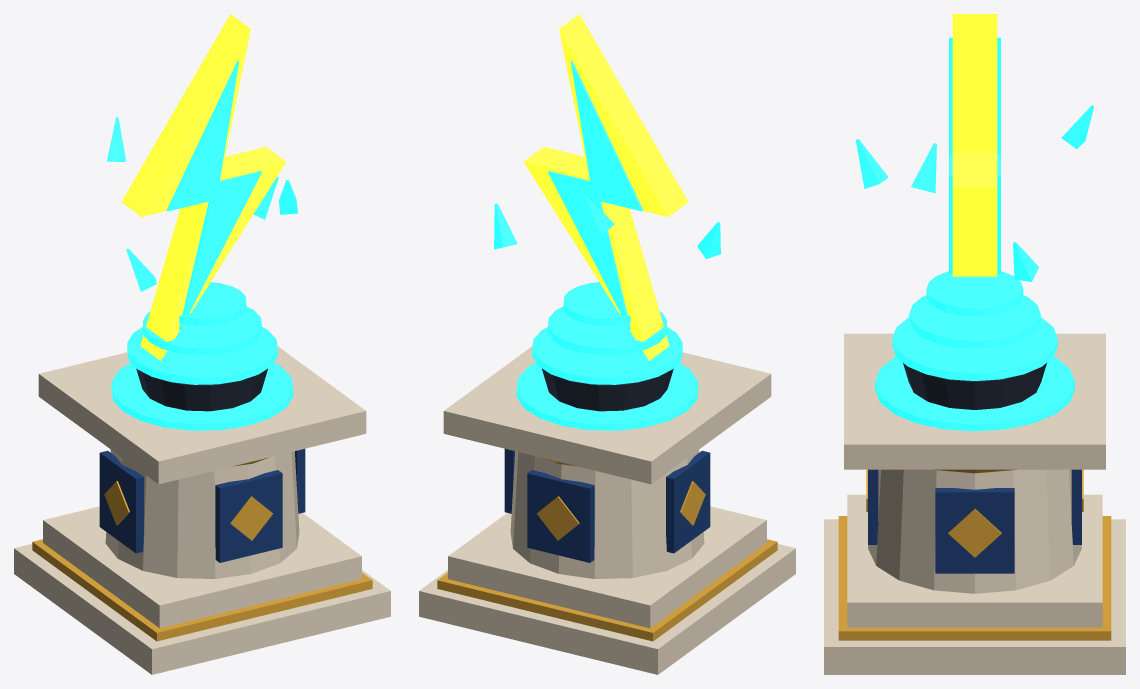
File: statue-lightning.glb
3 renders of one model, left to right at view 1: azimuth 30°, elevation 25°; view 2: azimuth 150°, elevation 25°; view 3: azimuth 270°, elevation 25°, orthographic. The views are drawn at different scales.
Parts seen in each view (by area): view 1: Pedestal_Marble, Statue_Glow_Cyan, Statue_Glow_Yellow, Pedestal_Blue, Pedestal_Gold, Statue_Dark_Coil; view 2: Pedestal_Marble, Statue_Glow_Cyan, Statue_Glow_Yellow, Pedestal_Blue, Pedestal_Gold, Statue_Dark_Coil; view 3: Pedestal_Marble, Statue_Glow_Cyan, Statue_Glow_Yellow, Pedestal_Gold, Pedestal_Blue, Statue_Dark_Coil.
Boxes of the visible parts, x1,y1,x2,y2 form: Pedestal_Marble: (14,346,390,674); Statue_Glow_Cyan: (107,60,297,430); Statue_Glow_Yellow: (121,14,285,360); Pedestal_Blue: (99,449,305,562); Pedestal_Gold: (32,457,372,641); Statue_Dark_Coil: (136,368,267,411); Pedestal_Marble: (419,346,795,674); Statue_Glow_Cyan: (494,60,720,430); Statue_Glow_Yellow: (524,14,688,360); Pedestal_Blue: (504,449,710,562); Pedestal_Gold: (437,457,777,641); Statue_Dark_Coil: (542,368,673,411); Pedestal_Marble: (824,333,1125,674); Statue_Glow_Cyan: (855,37,1093,431); Statue_Glow_Yellow: (952,14,997,276); Pedestal_Gold: (838,469,1111,640); Pedestal_Blue: (868,469,1081,573); Statue_Dark_Coil: (903,363,1046,409).
Size of the model in its own units: 1.75 by 3.95 by 1.75.
